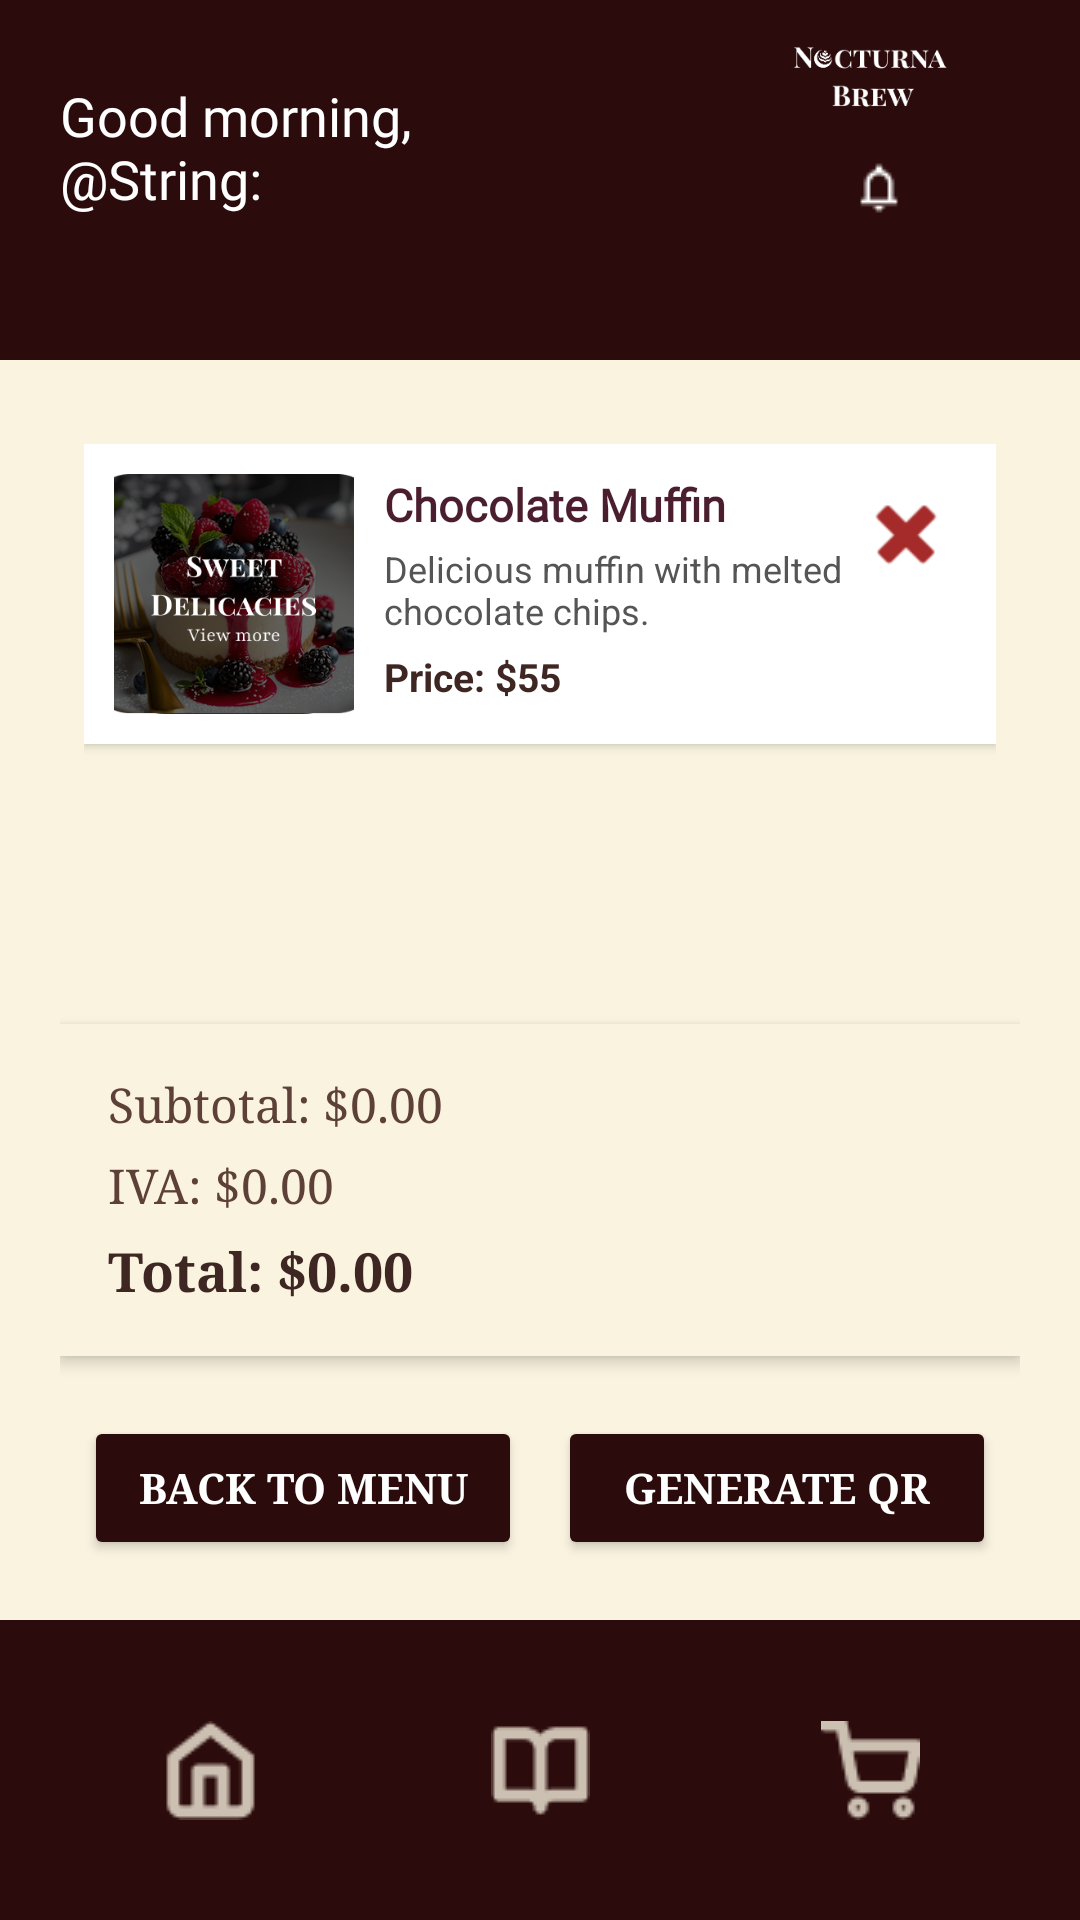

Screen size 1080px×1920px. Icon name, then its center in pixels as [x,y]:
Cart: [870,1770]
Home: [210,1770]
Notifications: [879,188]
Remove item: [906,534]
